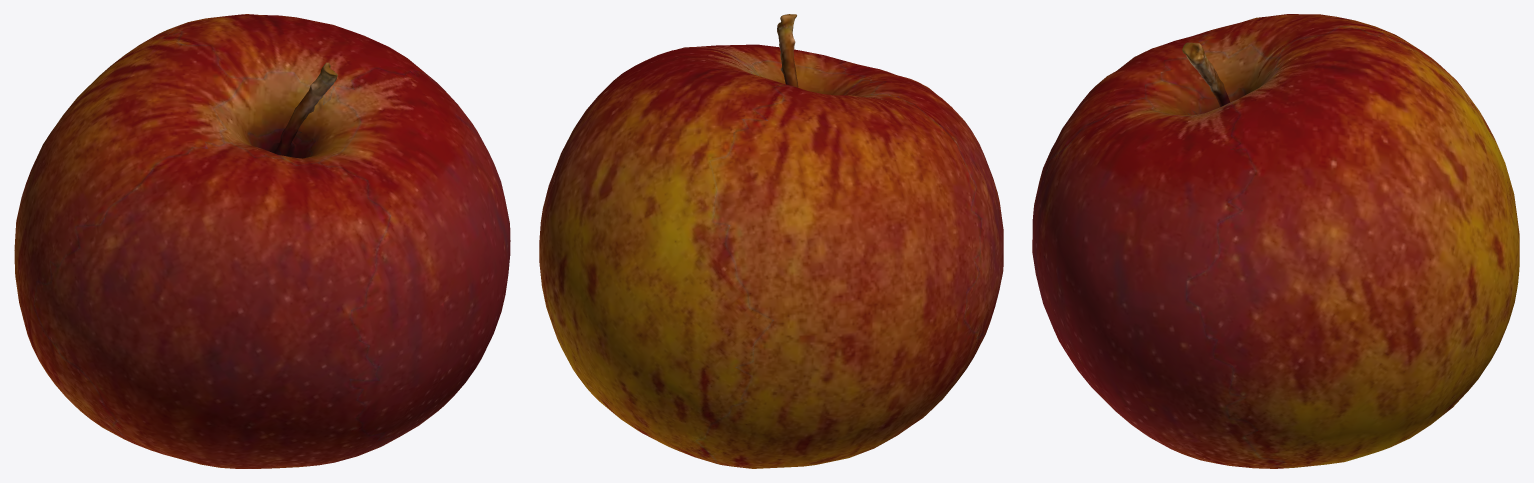
File: apple.glb
The picture shows the model from 3 angles, left to right: view 1: azimuth 30°, elevation 25°; view 2: azimuth 150°, elevation 25°; view 3: azimuth 270°, elevation 25°; orthographic projection. The views are drawn at different scales.
Parts seen in each view (by area): view 1: food_apple_01; view 2: food_apple_01; view 3: food_apple_01.
Part boxes in pixels (<box>): food_apple_01: <box>14,14,510,468</box>; food_apple_01: <box>539,14,1003,468</box>; food_apple_01: <box>1032,14,1519,468</box>.
Bounding box in the file's own units: 0.0976 × 0.0854 × 0.0958.
1 material, 1 textured.
